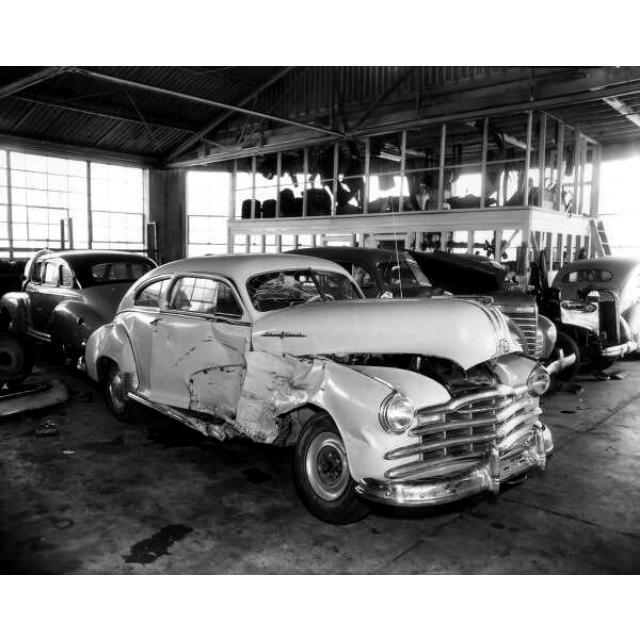Runningboard-Damage: (124, 396, 263, 446)
bonnet-dent: (285, 289, 527, 381)
doorouter-dent: (155, 325, 259, 421)
fender-dent: (253, 332, 405, 463)
